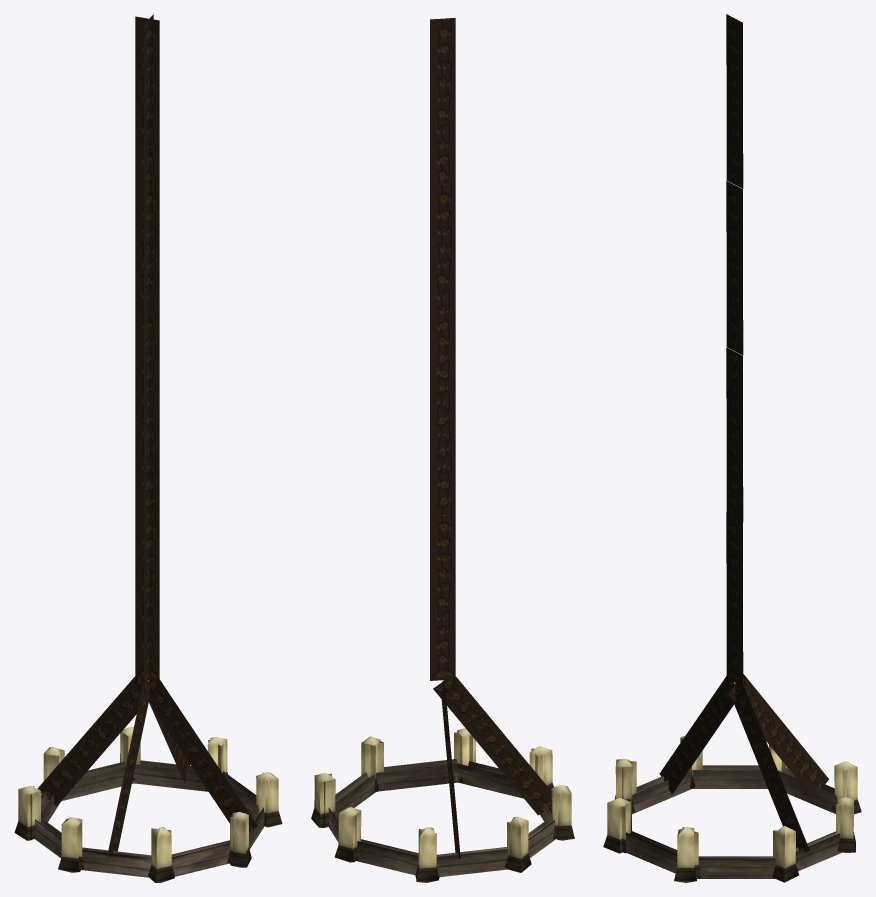
The model's file is chandelier_jail.fbx.
The picture shows the model from 3 angles, left to right: view 1: azimuth 30°, elevation 25°; view 2: azimuth 150°, elevation 25°; view 3: azimuth 270°, elevation 25°; orthographic projection.
Parts seen in each view (by area): view 1: Bar_ring.002, bar_chain15.002, bar_chain16.002, bar_chain17.008, bar_chain17.006, bar_chain17.007, bar_chain11.002, bar_chain13.002, Bar_ring.001, candle9.002, candle11.002, candle10.002 (+7 smaller); view 2: Bar_ring.002, bar_chain18.008, bar_chain18.006, bar_chain18.007, bar_chain3.002, bar_chain13.002, Bar_ring.001, candle13.002, candle11.002, candle12.002, candle7.002, bar_chain15.002 (+3 smaller); view 3: Bar_ring.002, bar_chain15.002, bar_chain18.008, bar_chain3.002, bar_chain18.007, bar_chain18.006, bar_chain13.002, bar_chain12.002, Bar_ring.001, candle7.002, candle8.002, candle2.002 (+3 smaller).
Boxes of the visible parts, box(x1,y1,x2,y2) form: Bar_ring.002: box(34, 764, 264, 877); bar_chain15.002: box(37, 673, 143, 805); bar_chain16.002: box(148, 676, 257, 829); bar_chain17.008: box(135, 16, 159, 186); bar_chain17.006: box(135, 348, 159, 517); bar_chain17.007: box(135, 182, 159, 352); bar_chain11.002: box(135, 514, 159, 680); bar_chain13.002: box(107, 681, 149, 857); Bar_ring.001: box(41, 760, 258, 857); candle9.002: box(148, 827, 174, 882); candle11.002: box(14, 785, 41, 840); candle10.002: box(58, 817, 82, 872); Bar_ring.002: box(328, 763, 555, 876); bar_chain18.008: box(430, 18, 455, 185); bar_chain18.006: box(430, 349, 455, 516); bar_chain18.007: box(430, 184, 455, 351); bar_chain3.002: box(430, 515, 455, 680); bar_chain13.002: box(433, 674, 551, 815); Bar_ring.001: box(335, 759, 552, 857); candle13.002: box(334, 807, 361, 862); candle11.002: box(506, 816, 531, 872); candle12.002: box(415, 827, 438, 882); candle7.002: box(311, 773, 335, 827); bar_chain15.002: box(441, 679, 460, 859); Bar_ring.002: box(626, 770, 842, 878); bar_chain15.002: box(728, 674, 829, 798); bar_chain18.008: box(726, 14, 743, 188); bar_chain3.002: box(726, 512, 743, 686); bar_chain18.007: box(726, 181, 743, 355); bar_chain18.006: box(726, 347, 743, 521); bar_chain13.002: box(659, 676, 740, 794); bar_chain12.002: box(728, 683, 809, 852); Bar_ring.001: box(623, 765, 837, 858); candle7.002: box(772, 826, 798, 882); candle8.002: box(603, 798, 630, 853); candle2.002: box(674, 827, 696, 882).
Size of the model in its own units: 345 by 1229 by 352.
2 materials, 2 textured.
